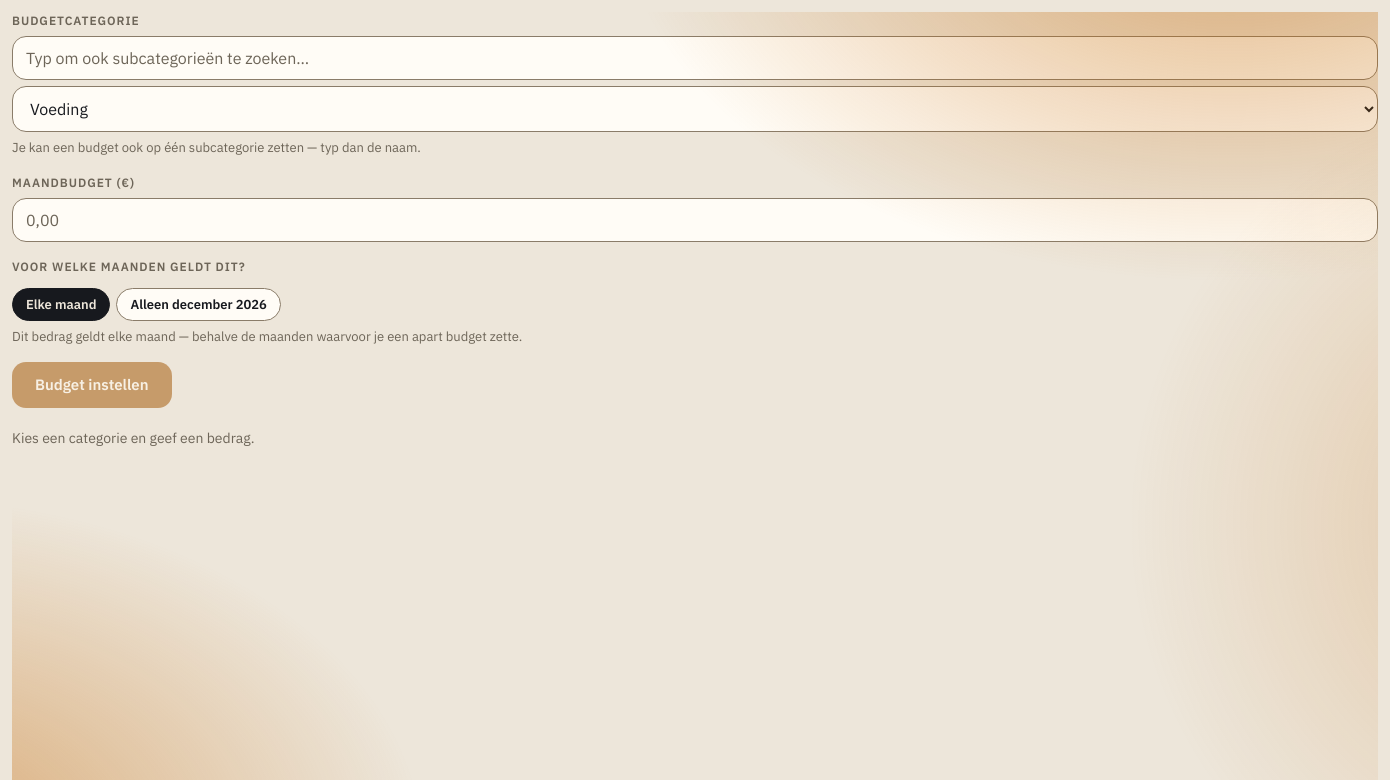
Test case: BudgetFormulier — een mislukte opslag › houdt je invoer vast, maakt niets leeg en zegt wat er misging
This screenshot has width=1390, height=780.
Type "250" into the field labelled "Maandbudget (€)".
click(695, 220); type("250")  # box [12,198,1378,242]
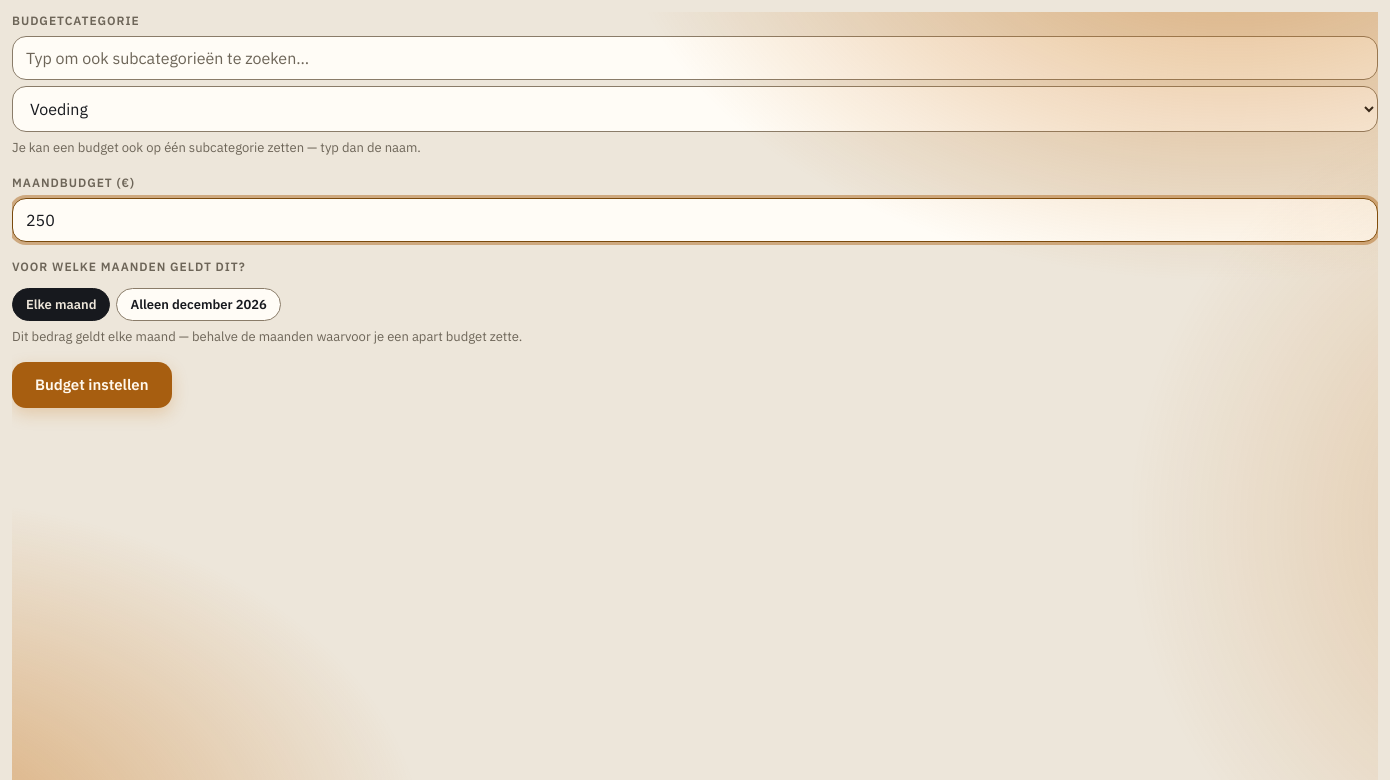
Click the button "Budget instellen".
click(92, 385)  # box [12,362,172,408]
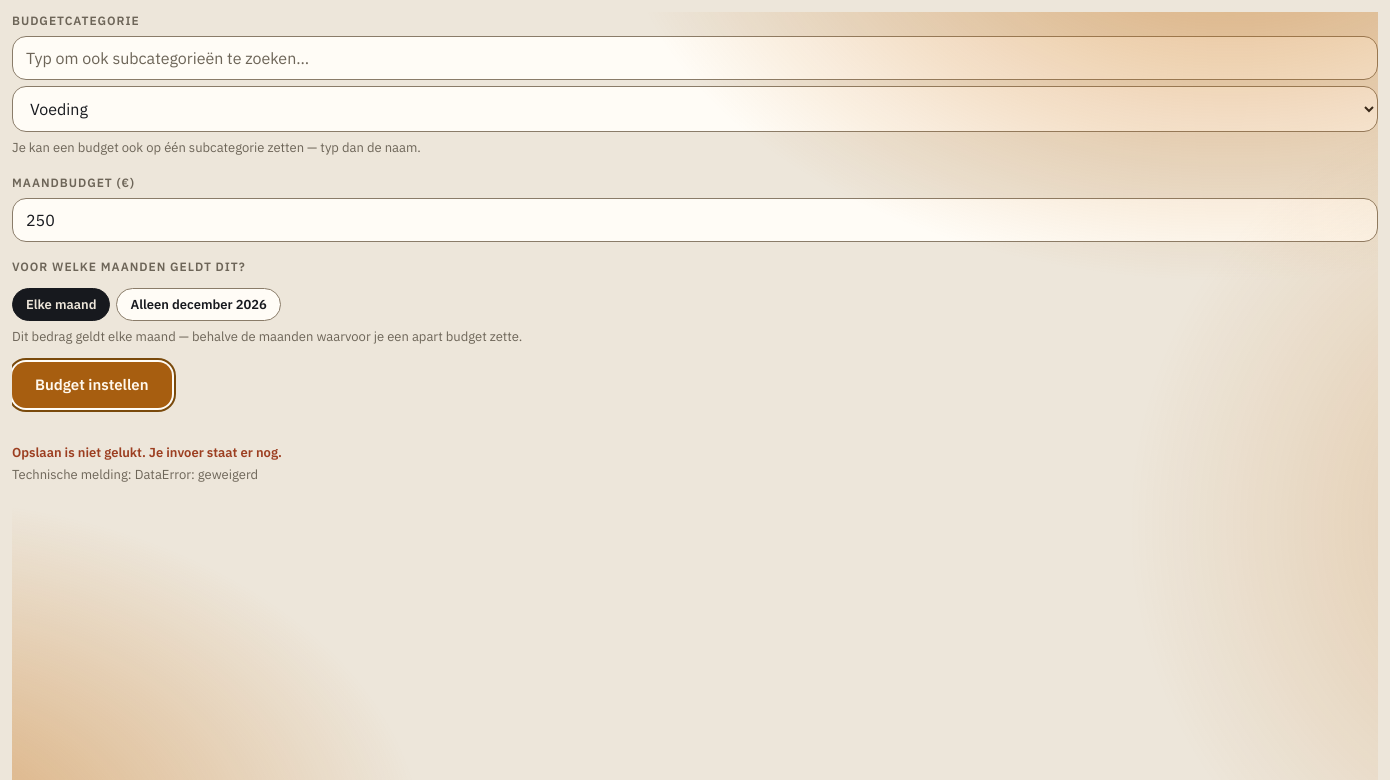
Expected: the 2nd message shows "Opslaan is niet gelukt. Je invoer staat er nog.", [12,444,282,461]
Expected: the 2nd message shows "Technische melding: DataError: geweigerd", [12,466,258,483]
